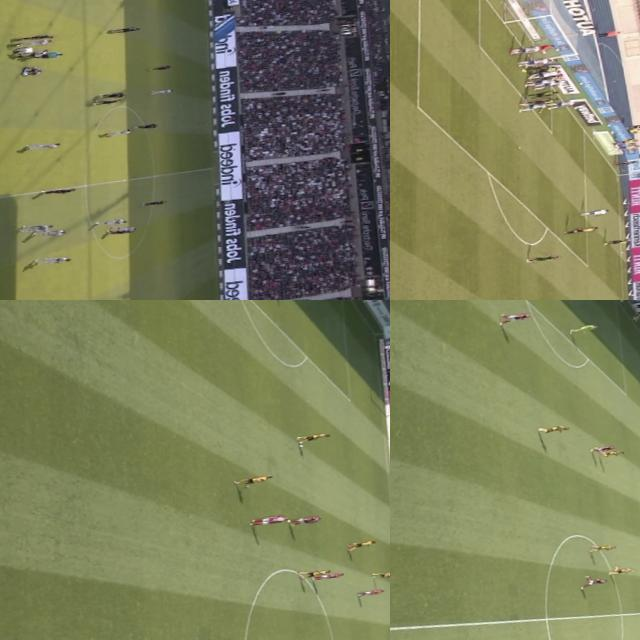ball: (296, 443, 304, 448)
player: (234, 474, 276, 489), (28, 224, 66, 240), (31, 253, 71, 267), (250, 513, 288, 527), (518, 100, 549, 116), (12, 222, 52, 234), (25, 140, 62, 152), (539, 422, 570, 436), (522, 64, 560, 75), (524, 76, 558, 88), (578, 574, 607, 588), (40, 186, 76, 197), (20, 32, 56, 43), (310, 570, 343, 582), (354, 586, 386, 598), (524, 253, 558, 264), (523, 43, 557, 54), (92, 217, 129, 227), (515, 57, 551, 67), (287, 516, 323, 526), (17, 38, 52, 48), (294, 434, 329, 444), (107, 223, 138, 234), (525, 96, 559, 106), (509, 44, 543, 54), (606, 564, 634, 576), (527, 68, 560, 78), (578, 208, 610, 218), (564, 324, 596, 334), (587, 542, 616, 552), (110, 25, 142, 34), (531, 80, 567, 88), (590, 443, 616, 454), (140, 198, 168, 208), (98, 90, 126, 100), (348, 542, 382, 550), (298, 568, 328, 577), (105, 228, 134, 237), (94, 98, 123, 107), (546, 100, 575, 109), (524, 58, 556, 66), (599, 449, 626, 458), (104, 129, 130, 138), (150, 86, 175, 95), (600, 237, 628, 245), (371, 569, 390, 580), (134, 122, 160, 130), (149, 64, 174, 72), (13, 46, 35, 55), (614, 159, 636, 166)
